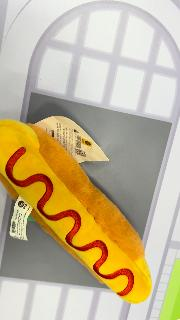hotdog: (1, 118, 153, 304)
